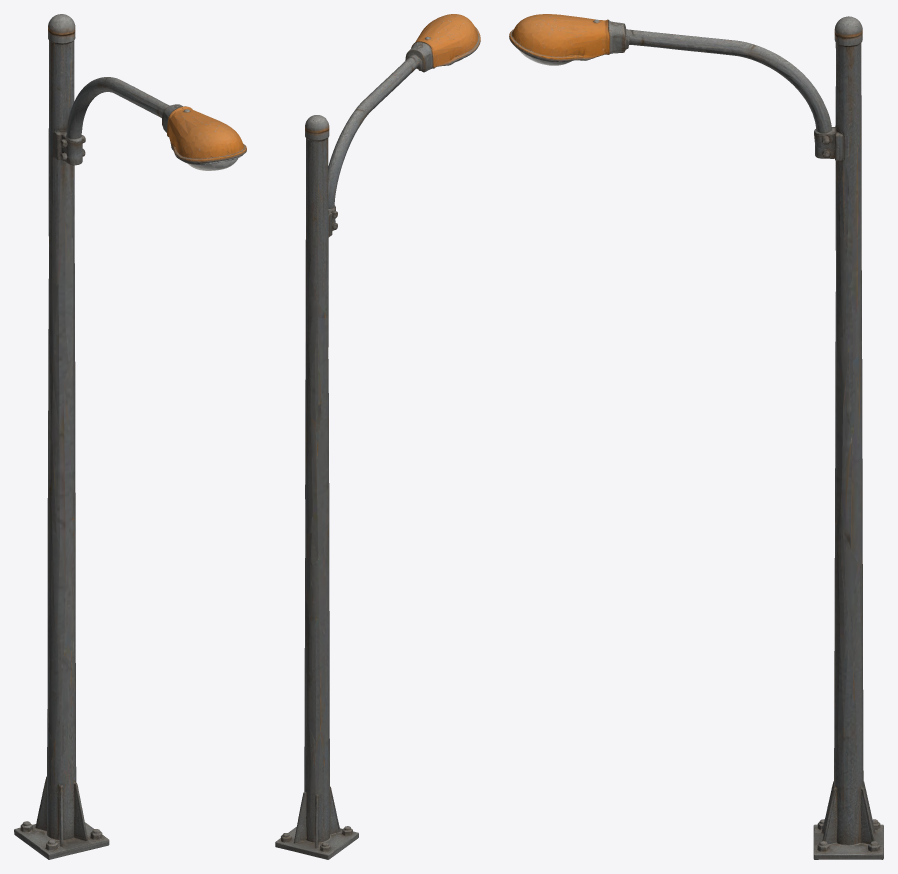
The picture shows the model from 3 angles, left to right: view 1: azimuth 30°, elevation 25°; view 2: azimuth 150°, elevation 25°; view 3: azimuth 270°, elevation 25°; orthographic projection. The views are drawn at different scales.
Visible parts, largest first — view 1: Mesh_0; view 2: Mesh_0; view 3: Mesh_0.
Part boxes in pixels (left/top/right/bottom): Mesh_0: left=14, top=14, right=246, bottom=859; Mesh_0: left=275, top=14, right=480, bottom=859; Mesh_0: left=509, top=14, right=883, bottom=859.
Size of the model in its own units: 0.1476 by 1.9 by 0.7809.
1 material, 1 textured.
